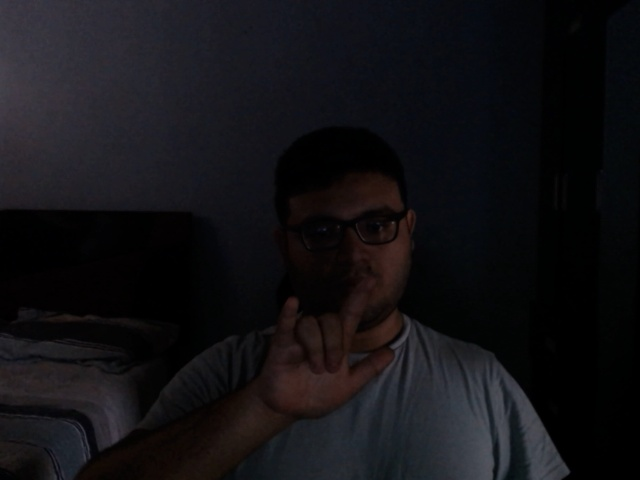I love you: (264, 277, 398, 423)
